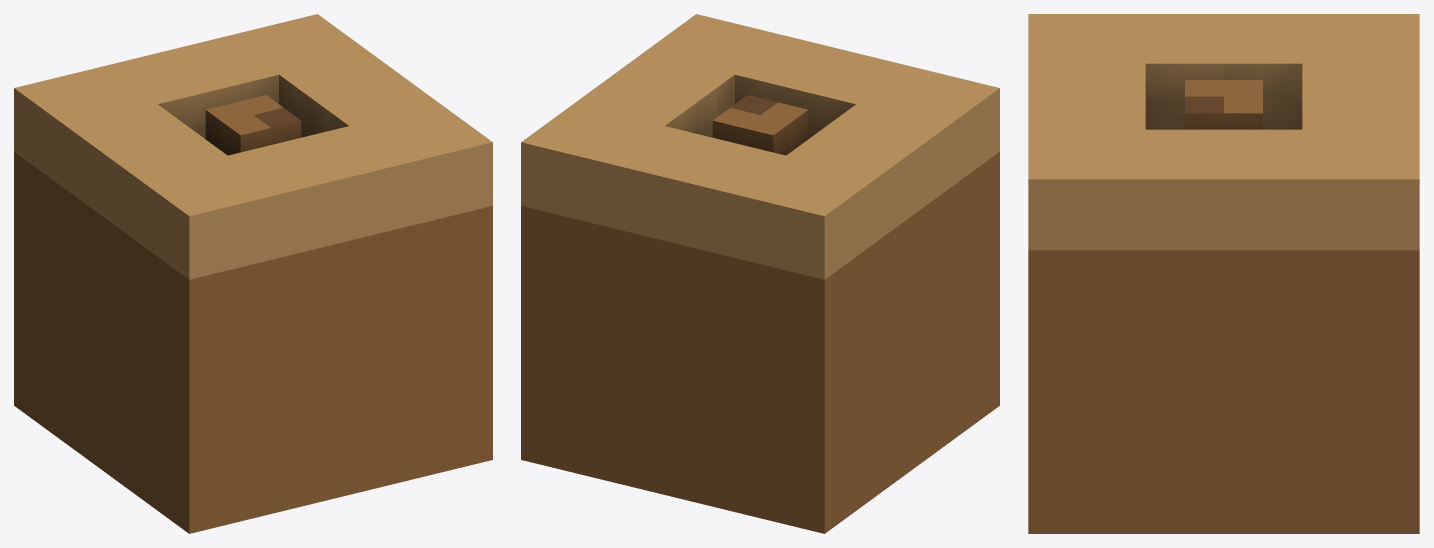
Rendered from wood_tile_voxel_single.fbx.
The picture shows the model from 3 angles, left to right: view 1: azimuth 30°, elevation 25°; view 2: azimuth 150°, elevation 25°; view 3: azimuth 270°, elevation 25°; orthographic projection. The views are drawn at different scales.
Visible parts, largest first — view 1: Block, Plank2, Plank3, Plank5, Plank4, Plank1; view 2: Block, Plank3, Plank2, Plank5, Plank4, Plank1; view 3: Block, Plank2, Plank3, Plank4, Plank5, Plank1.
Part boxes in pixels (<box>): Block: <box>14,152,492,533</box>; Plank2: <box>136,104,492,279</box>; Plank3: <box>14,14,369,189</box>; Plank5: <box>66,104,227,240</box>; Plank4: <box>279,52,439,137</box>; Plank1: <box>205,95,301,155</box>; Block: <box>521,152,999,533</box>; Plank3: <box>521,104,877,279</box>; Plank2: <box>644,14,999,189</box>; Plank5: <box>786,104,947,240</box>; Plank4: <box>574,52,734,137</box>; Plank1: <box>712,95,808,155</box>; Block: <box>1028,250,1419,533</box>; Plank2: <box>1028,14,1145,250</box>; Plank3: <box>1302,14,1419,250</box>; Plank4: <box>1145,129,1302,250</box>; Plank5: <box>1145,14,1302,129</box>; Plank1: <box>1185,80,1262,129</box>.
Size of the model in its own units: 100 by 100 by 100.
